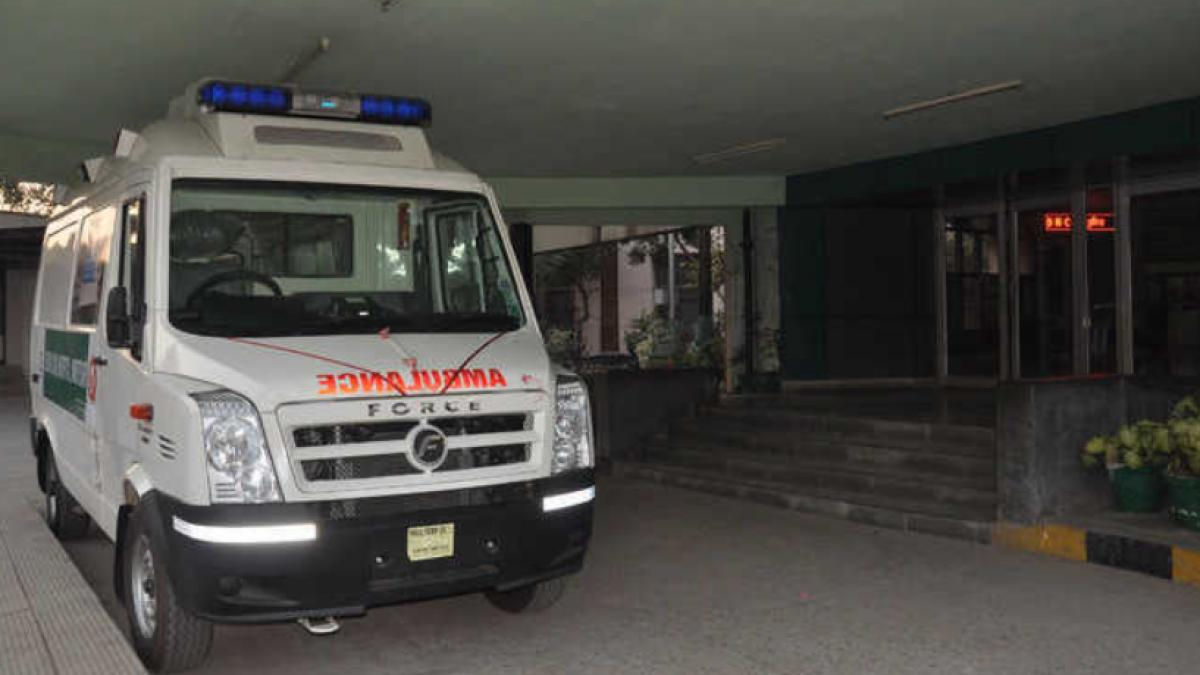ER: (28, 78, 597, 675)
